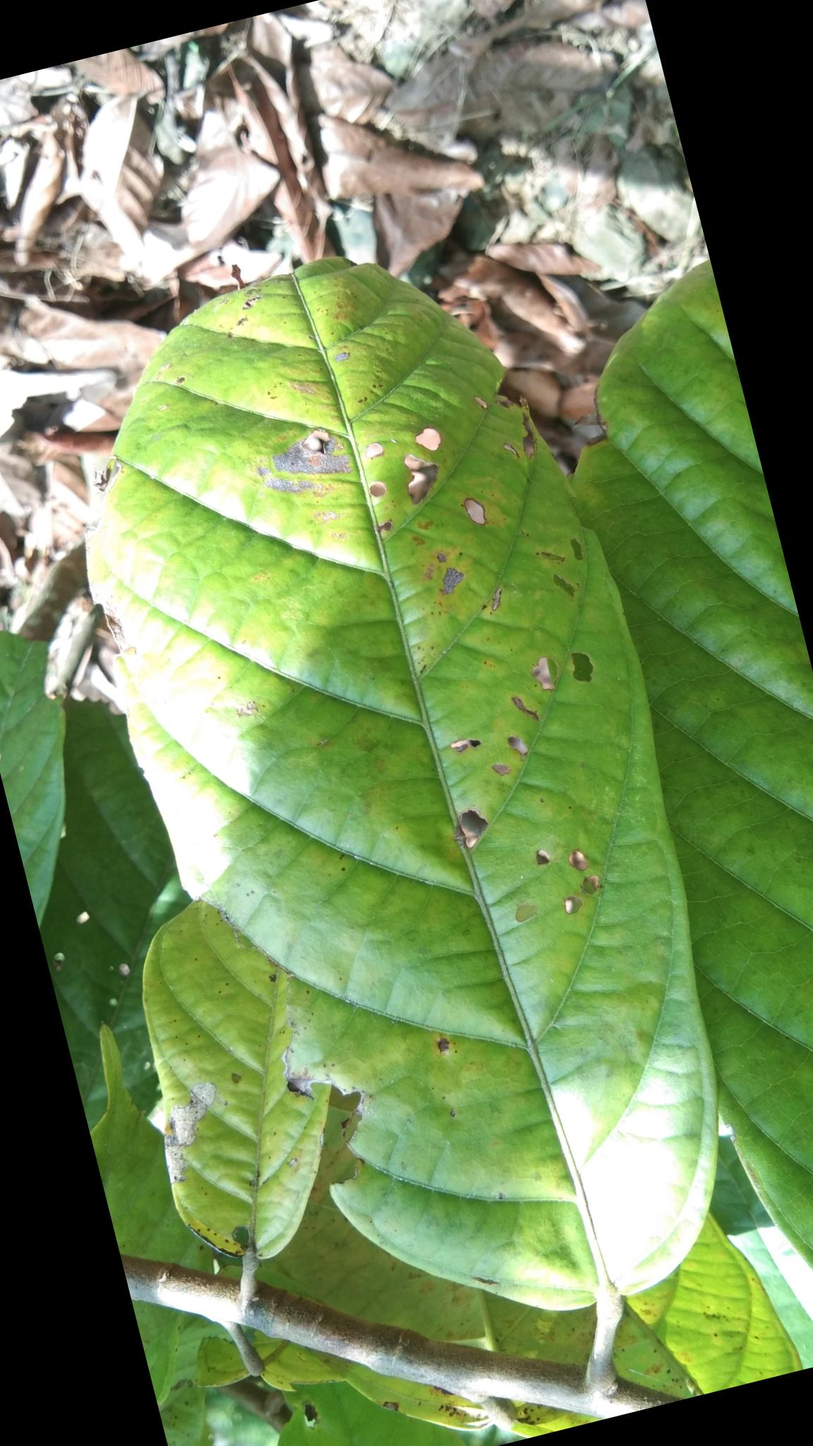Fosforo: (84, 226, 722, 1301)
